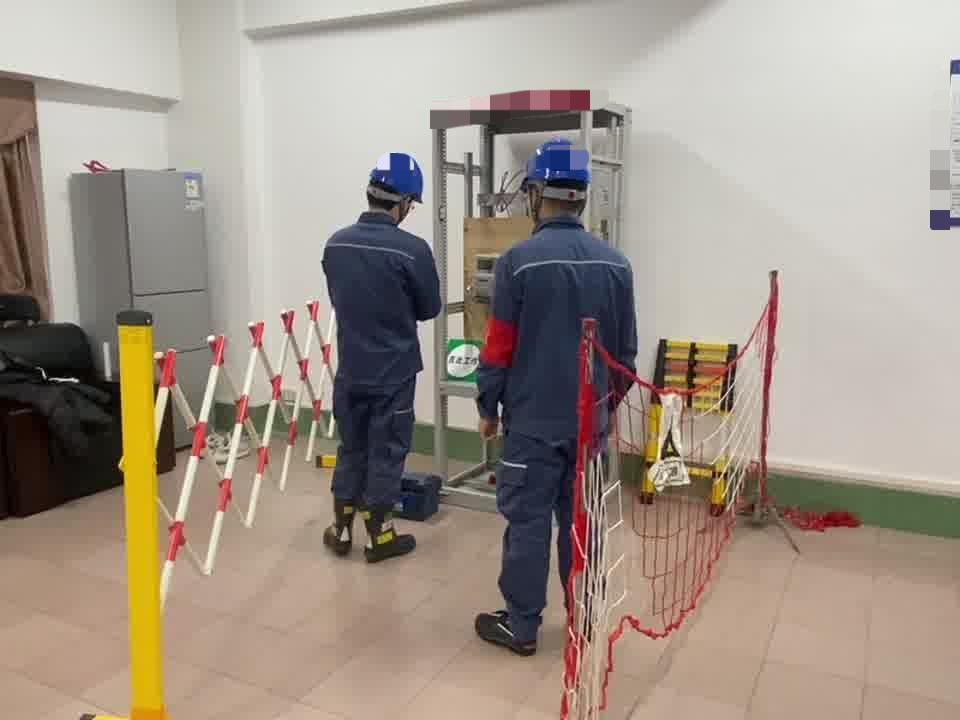halt: (524, 139, 597, 223), (366, 152, 429, 218)
inear: (527, 187, 549, 221), (396, 198, 416, 226)
